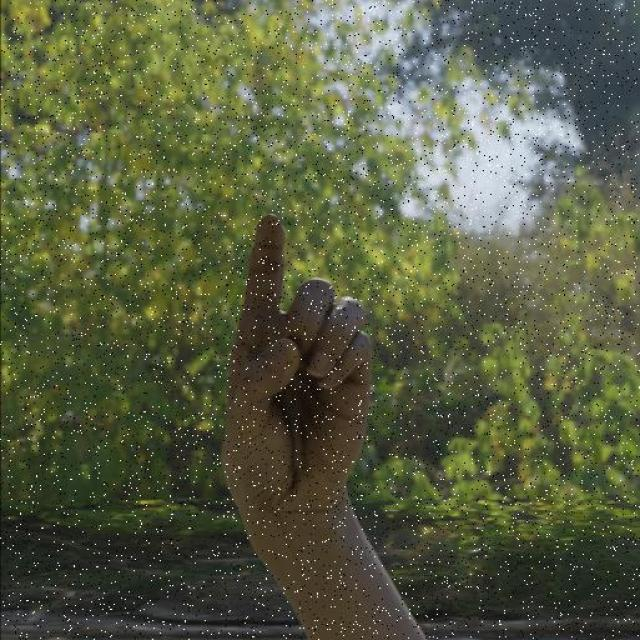X: (209, 205, 436, 617)
